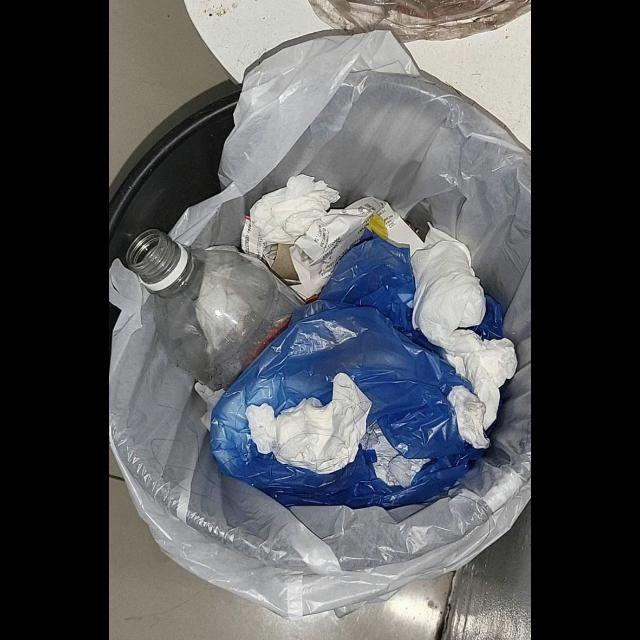paper: (411, 225, 518, 450), (289, 197, 409, 304), (247, 375, 372, 475), (250, 174, 341, 244)
plastic_bag: (209, 226, 519, 511)
plastic_bottle: (124, 229, 305, 393)
